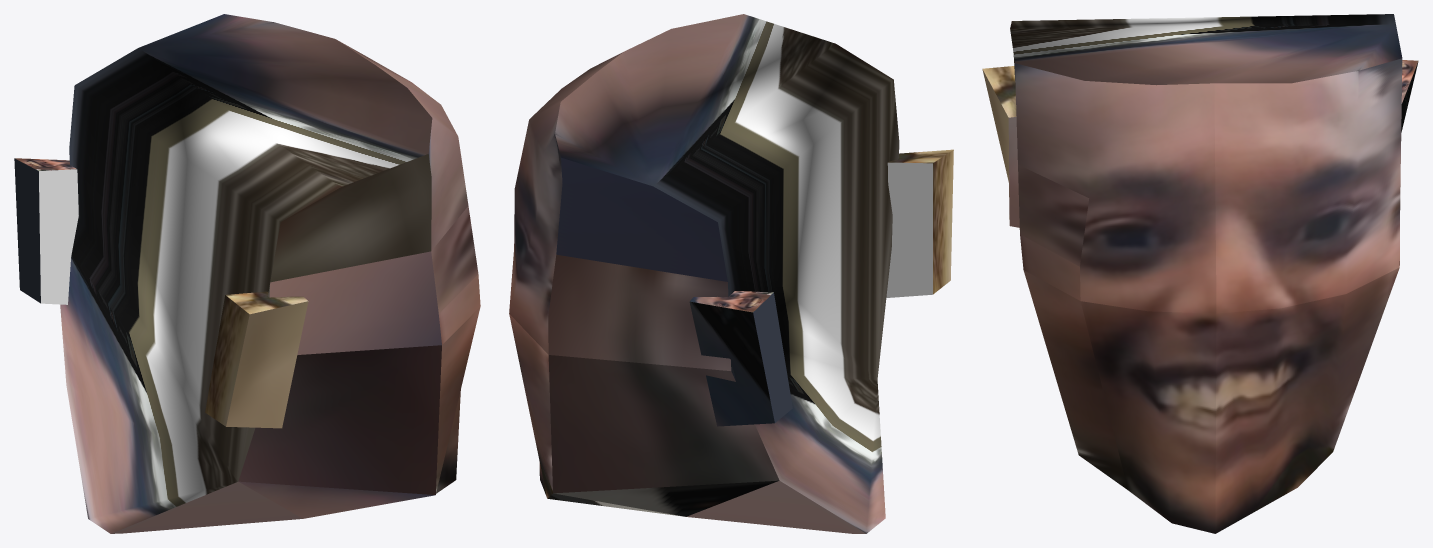
The model's file is ekakbshk.fbx.
3 views of the same model, side by side, from view 1: azimuth 30°, elevation 25°; view 2: azimuth 150°, elevation 25°; view 3: azimuth 270°, elevation 25° (orthographic).
Parts seen in each view (by area): view 1: Cylinder; view 2: Cylinder; view 3: Cylinder.
Boxes of the visible parts, <box> form: Cylinder: <box>14,14,480,533</box>; Cylinder: <box>509,14,953,533</box>; Cylinder: <box>982,14,1418,533</box>.
Size of the model in its own units: 61.33 by 72.49 by 67.79.
Materials: 1 (1 with a texture image).
